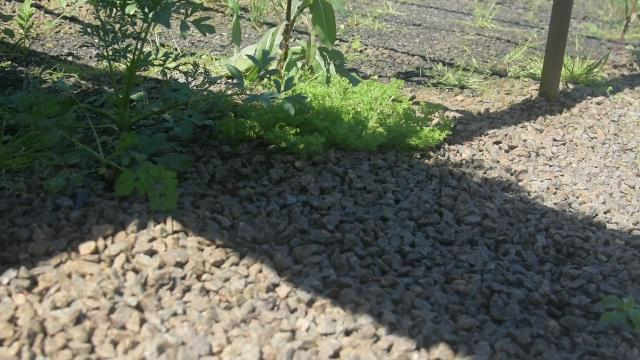MalezaMontesDelPlata: (0, 0, 239, 212), (195, 66, 455, 153), (220, 0, 353, 109), (494, 31, 616, 94), (417, 55, 490, 90), (593, 288, 640, 332), (456, 0, 511, 30), (347, 9, 395, 36), (236, 0, 275, 28)
